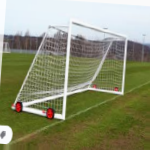goals: (12, 18, 129, 119)
